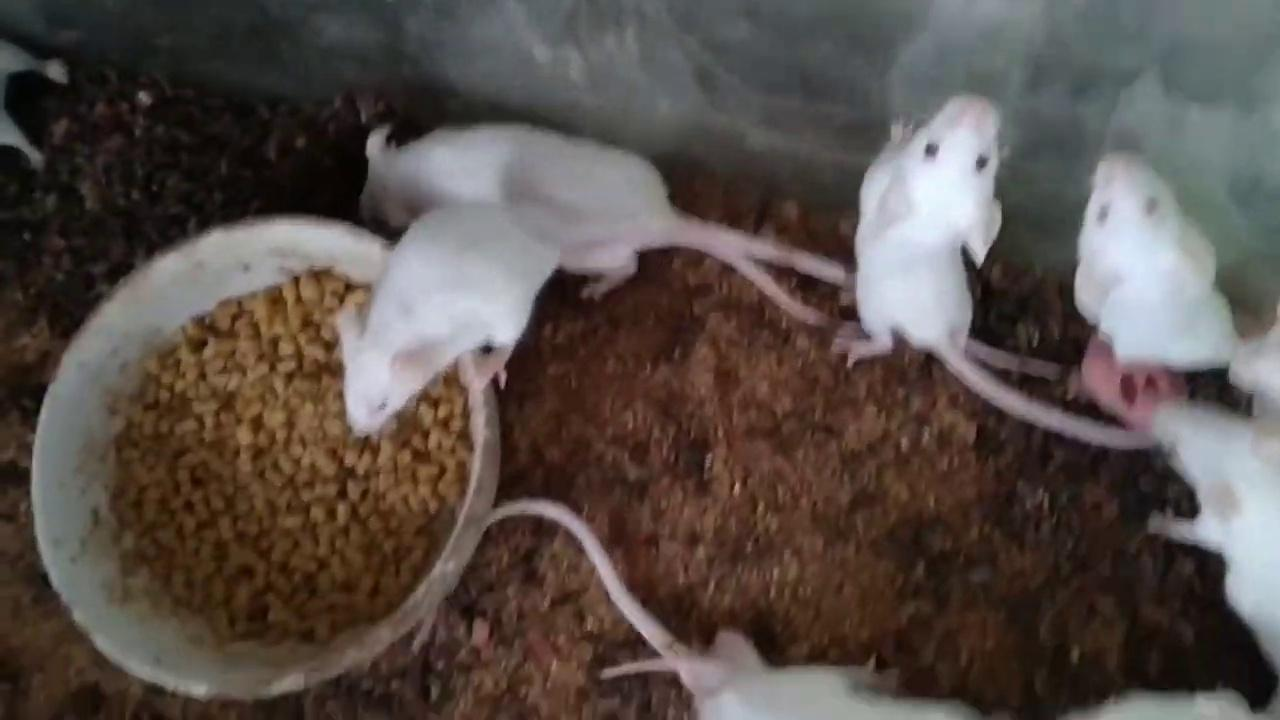rat: (336, 203, 850, 437), (834, 93, 1159, 449), (481, 495, 984, 720), (359, 124, 844, 325), (1143, 391, 1280, 684), (1075, 150, 1247, 363)
